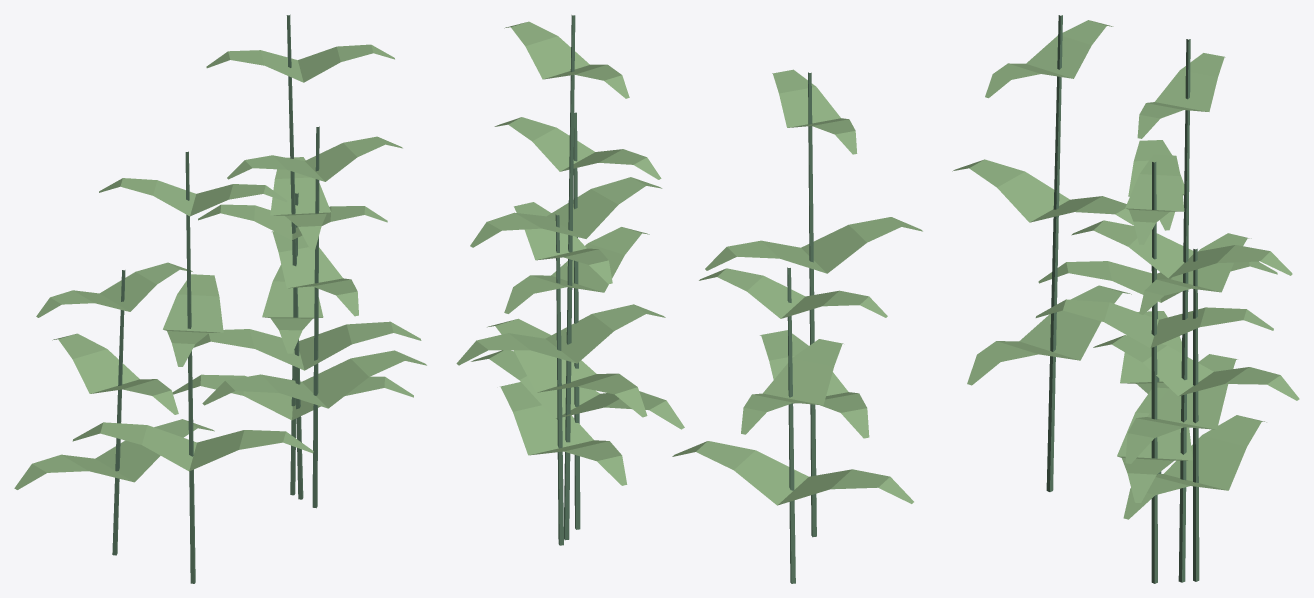
Rendered from nettle-clump.glb.
3 views of the same model, side by side, from view 1: azimuth 30°, elevation 25°; view 2: azimuth 150°, elevation 25°; view 3: azimuth 270°, elevation 25° (orthographic). The views are drawn at different scales.
Parts seen in each view (by area): view 1: nettle-clump; view 2: nettle-clump; view 3: nettle-clump.
Part boxes in pixels (x1,y1,x2,y2): nettle-clump: (14, 14, 426, 583); nettle-clump: (456, 15, 922, 583); nettle-clump: (952, 15, 1299, 583).
Size of the model in its own units: 0.9618 by 1.09 by 0.6397.
